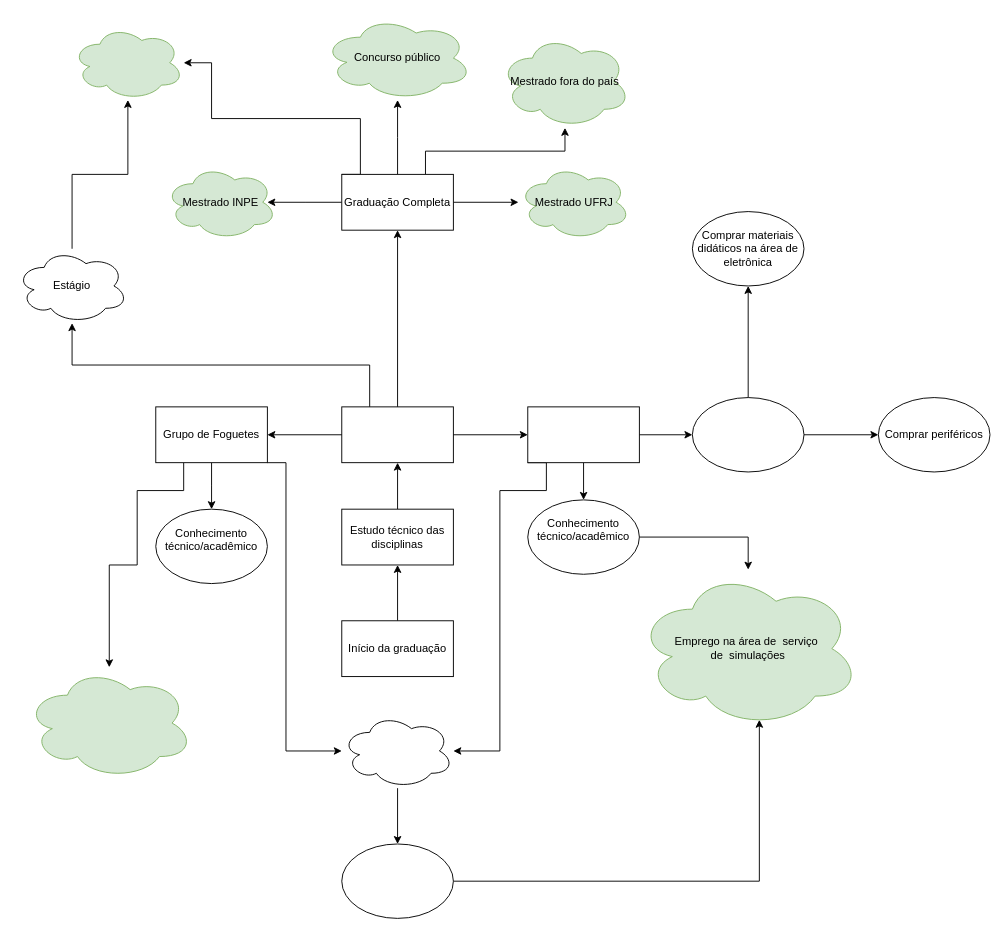
The diagram is 1006 pixels wide and 935 high, and some of its shapes have lost their labels. Here are the shapes that lost their labels. From the top down, the box of each, then its label:
(71, 25, 184, 100): Efetivação
(341, 406, 453, 463): Atividades extracurriculares
(527, 406, 639, 463): IC
(691, 397, 804, 472): Bolsa
(25, 666, 193, 779): Emprego técnico na área de instrumentação
(341, 713, 453, 788): TCC
(341, 843, 453, 918): Tema trabalhável para mestrado e doutorado
